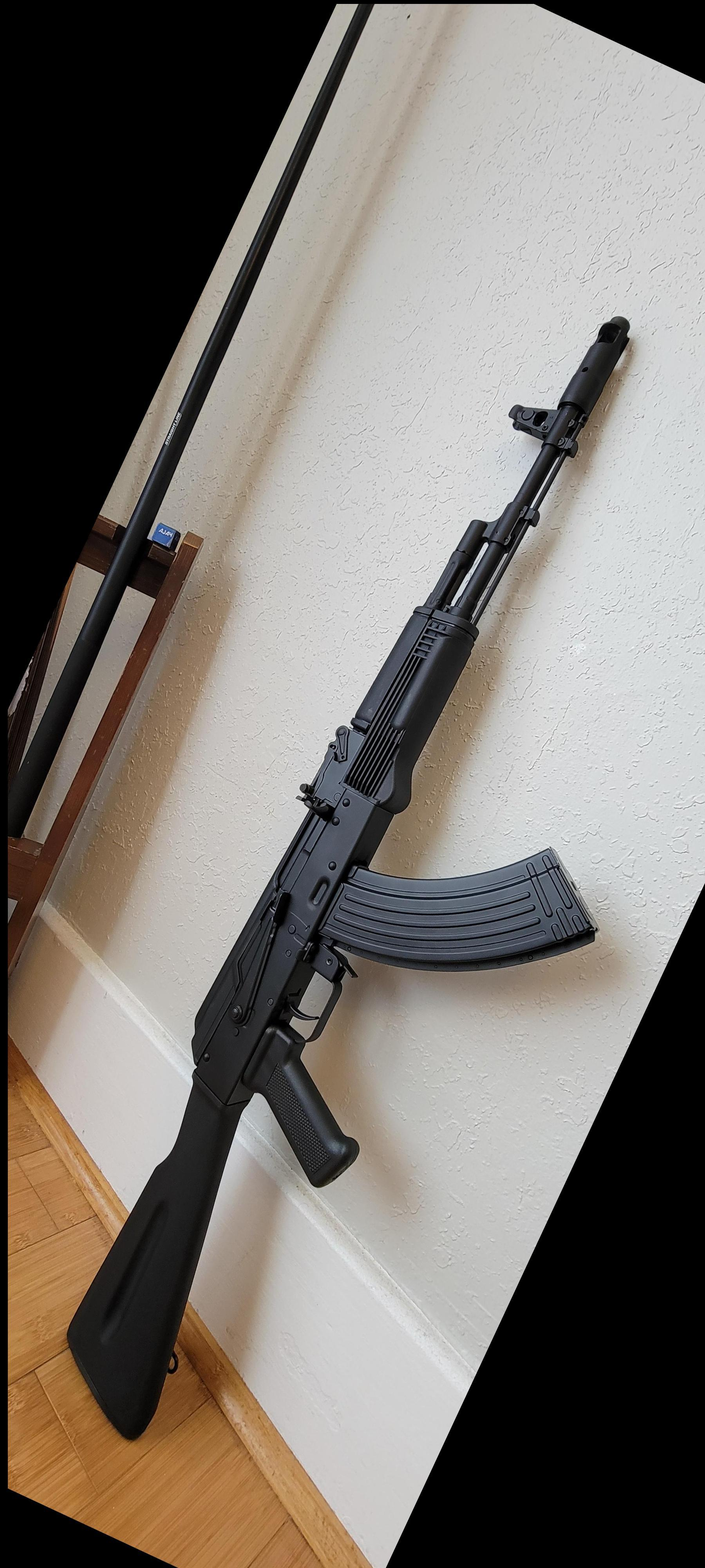larga: (64, 318, 631, 1441)
